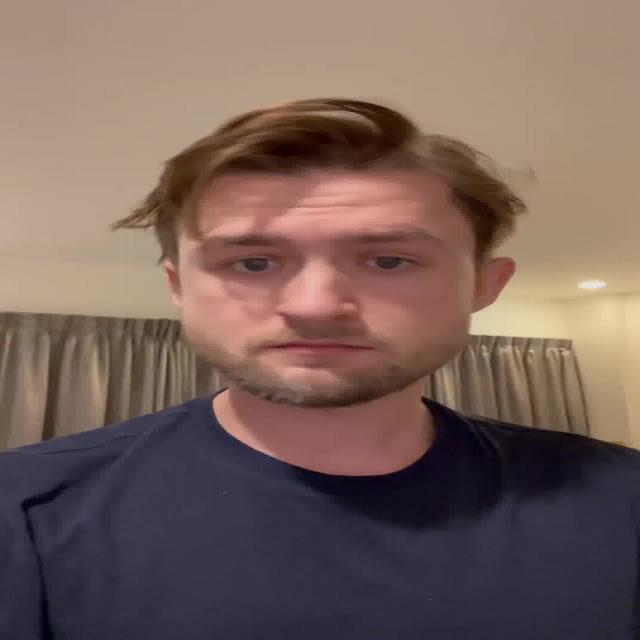earlobe: (470, 257, 516, 313), (159, 261, 183, 312)
